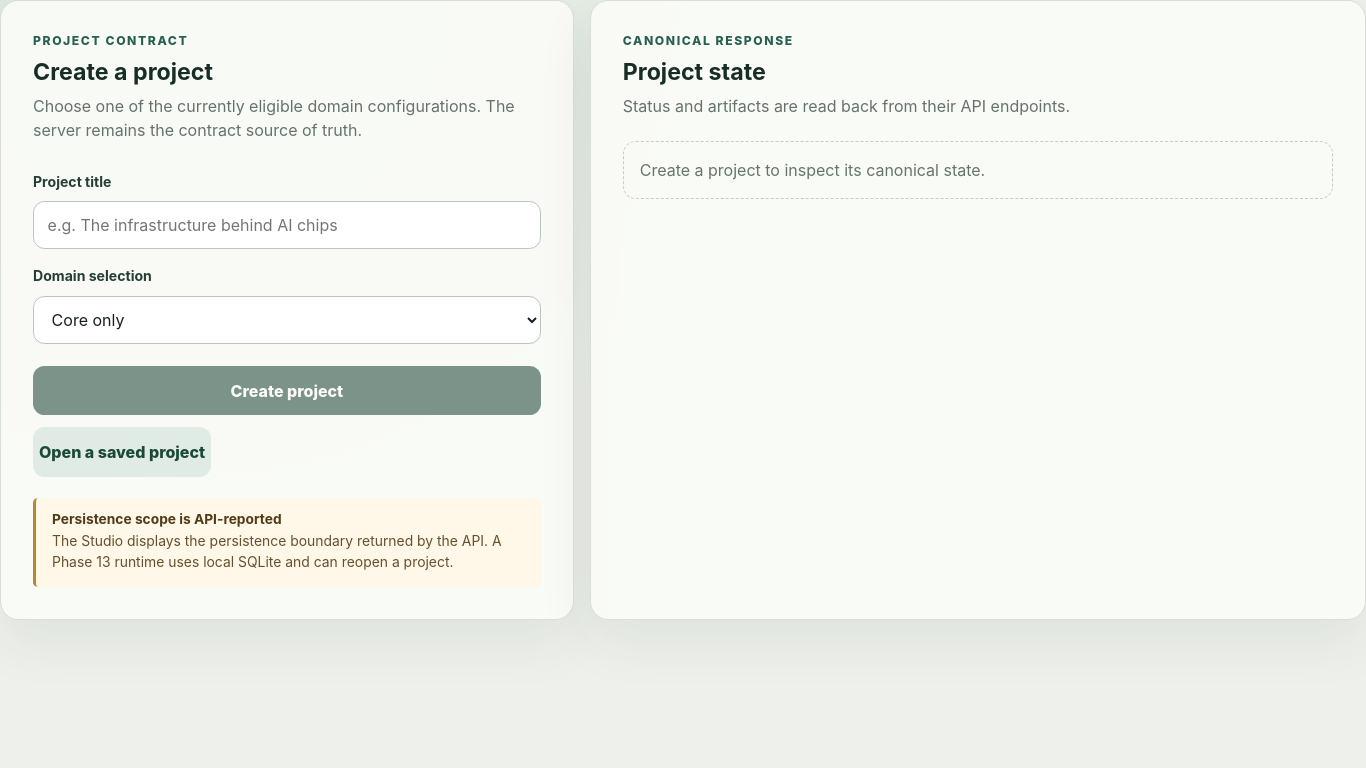
Test: ProjectConsole › shows a sanitized structured server error
The image size is (1366, 768).
Type "Rejected" into the field labelled "Project title". click: (287, 225)
box: [33,201,541,249]
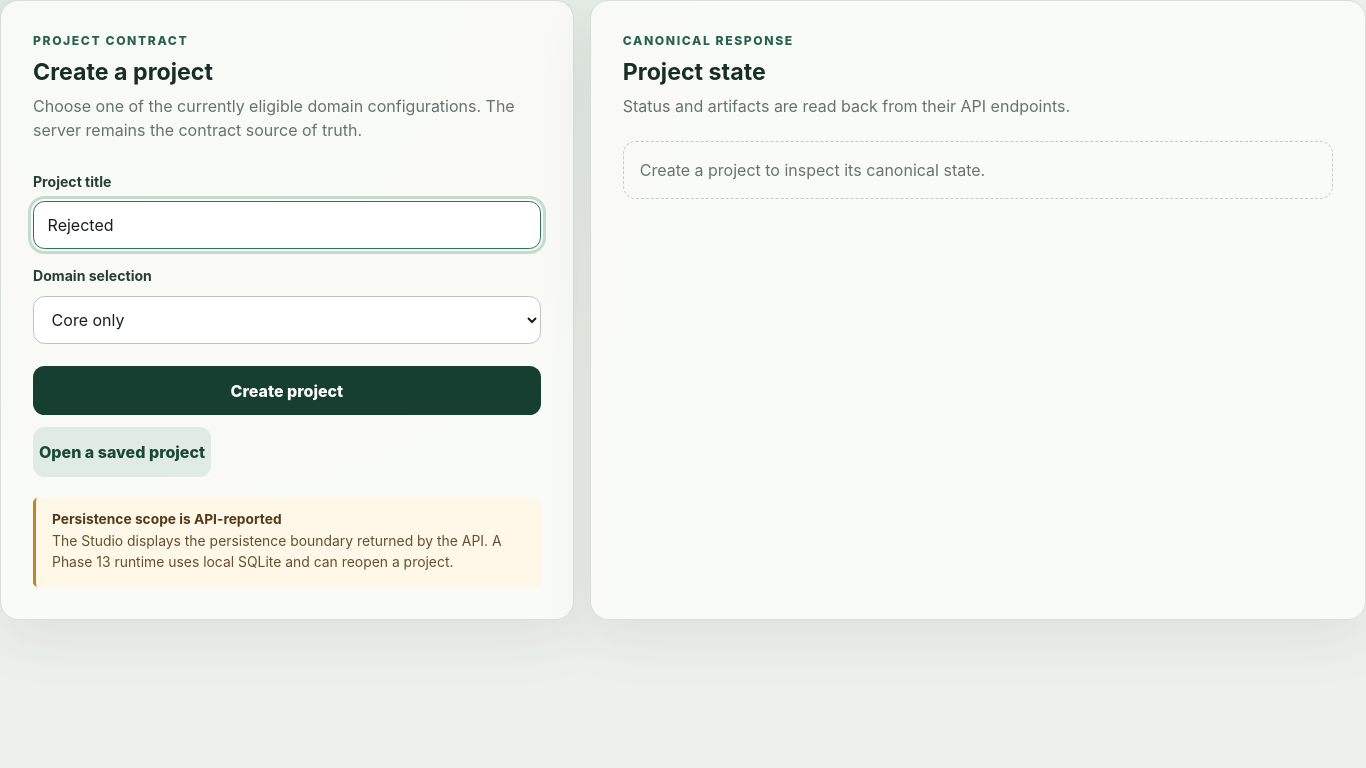
Click the button "Create project". click: (287, 391)
box: [33,366,541,416]
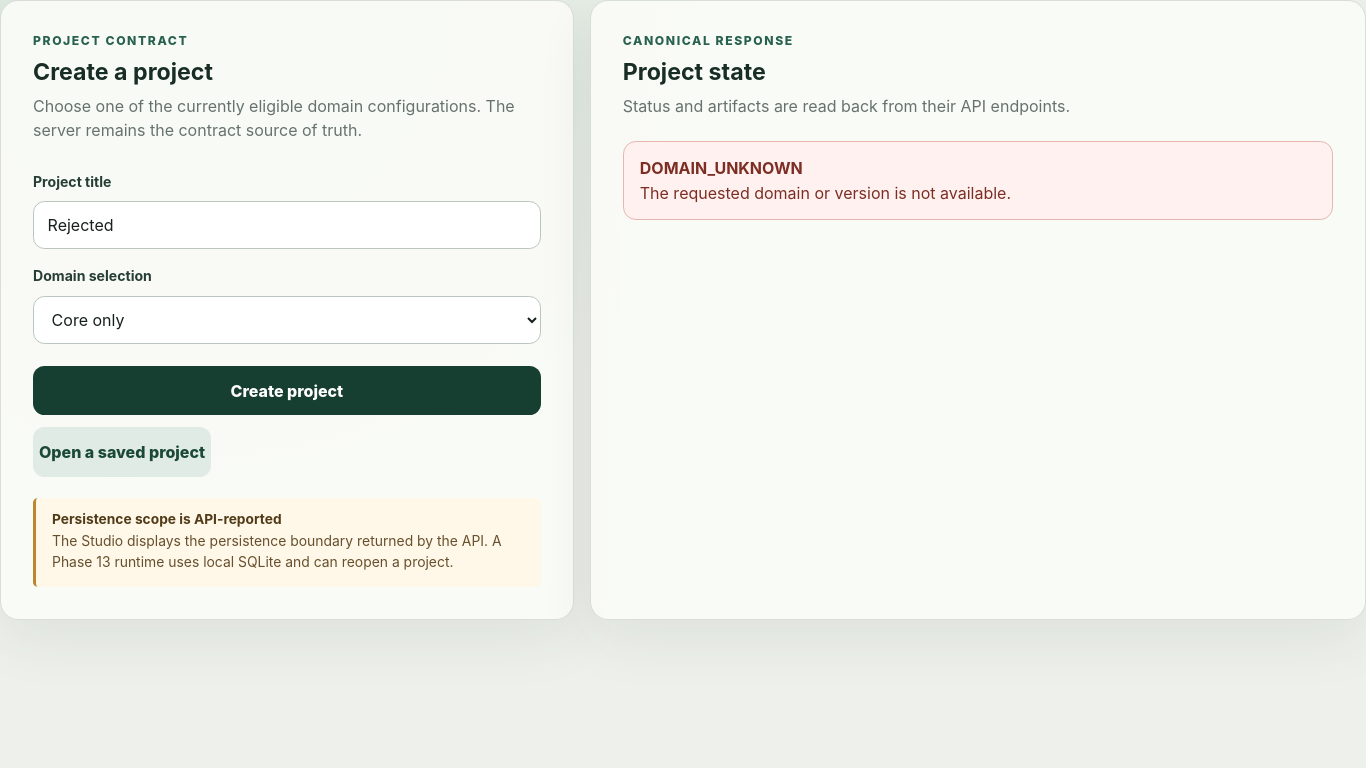
Check: the message does not show "private registry", box [623,141,1333,220]
Check: the message shows "DOMAIN_UNKNOWN", box [640,158,803,178]
Check: the message shows "The requested domain or version is not available.", box [640,183,1011,203]
